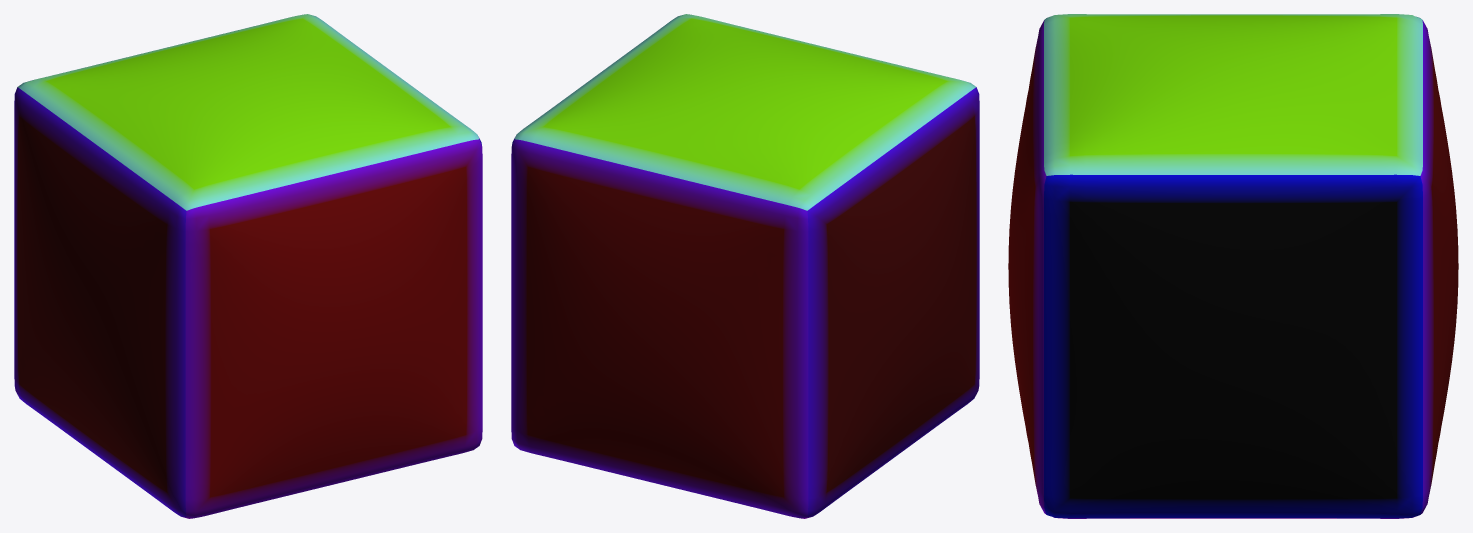
File: block.glb
3 renders of one model, left to right at view 1: azimuth 30°, elevation 25°; view 2: azimuth 150°, elevation 25°; view 3: azimuth 270°, elevation 25°, orthographic. The views are drawn at different scales.
Parts seen in each view (by area): view 1: block; view 2: block; view 3: block.
Part boxes in pixels (box(x1,y1,x2,y2)): block: box(14, 14, 482, 518); block: box(511, 14, 979, 518); block: box(1008, 14, 1458, 518).
Size of the model in its own units: 1.15 by 1.15 by 1.15.
